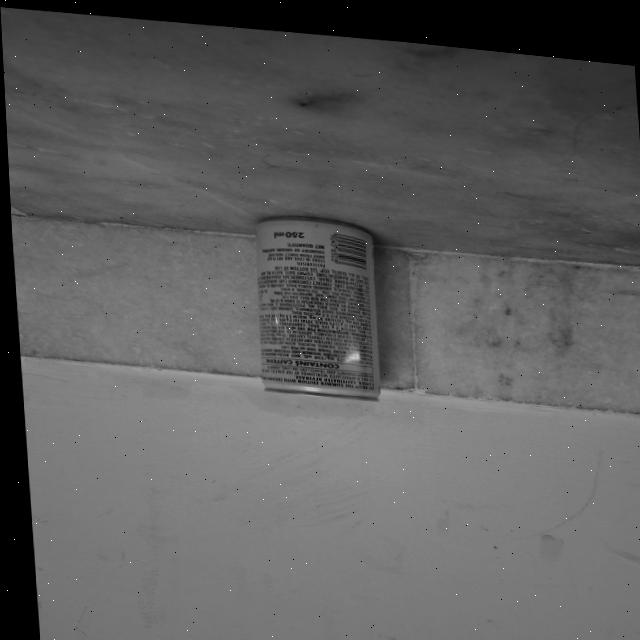Redbull Summer Edition: (224, 196, 411, 411)
